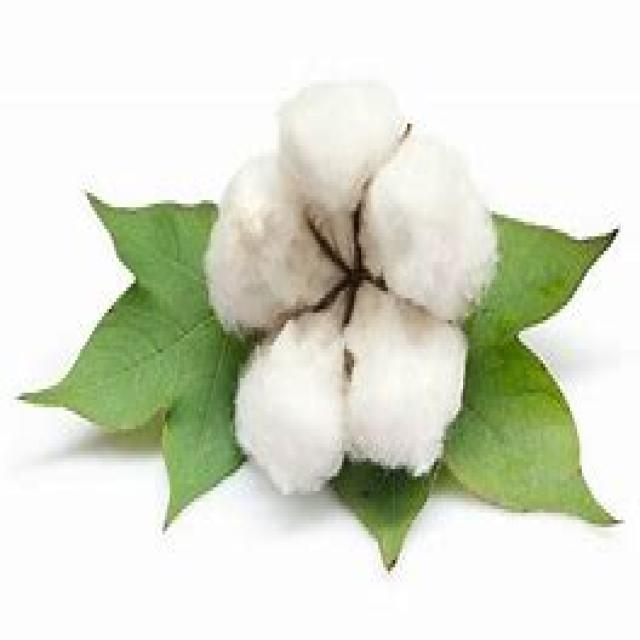Matured Cotton Boll: (202, 63, 504, 499)
